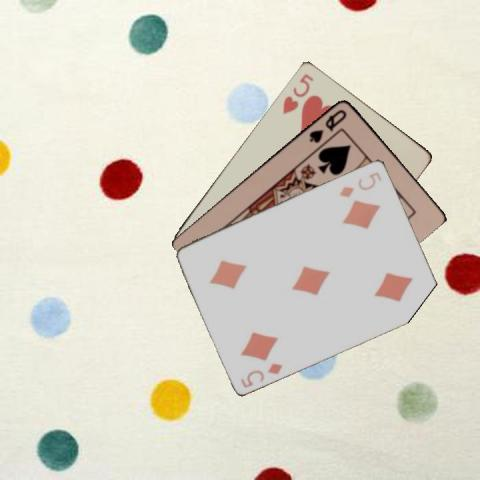5d: (237, 359, 285, 389), (336, 168, 383, 198)
5h: (280, 70, 316, 115)
Qs: (306, 106, 349, 144)
